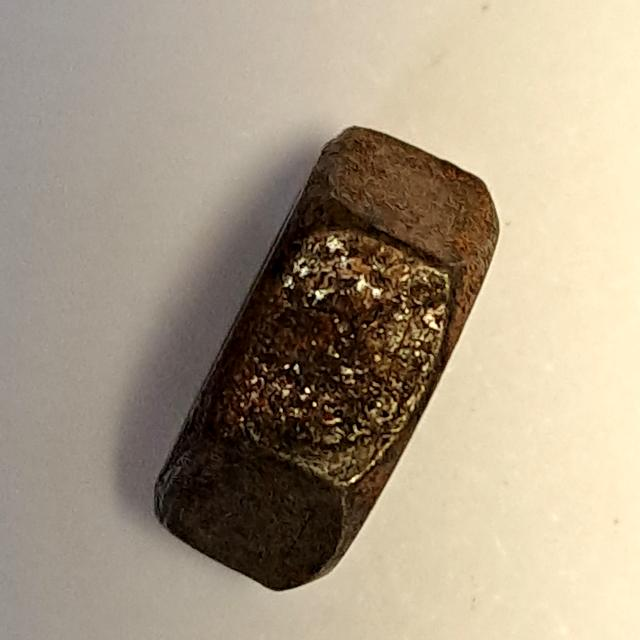Side_Rust: (138, 113, 516, 603)
